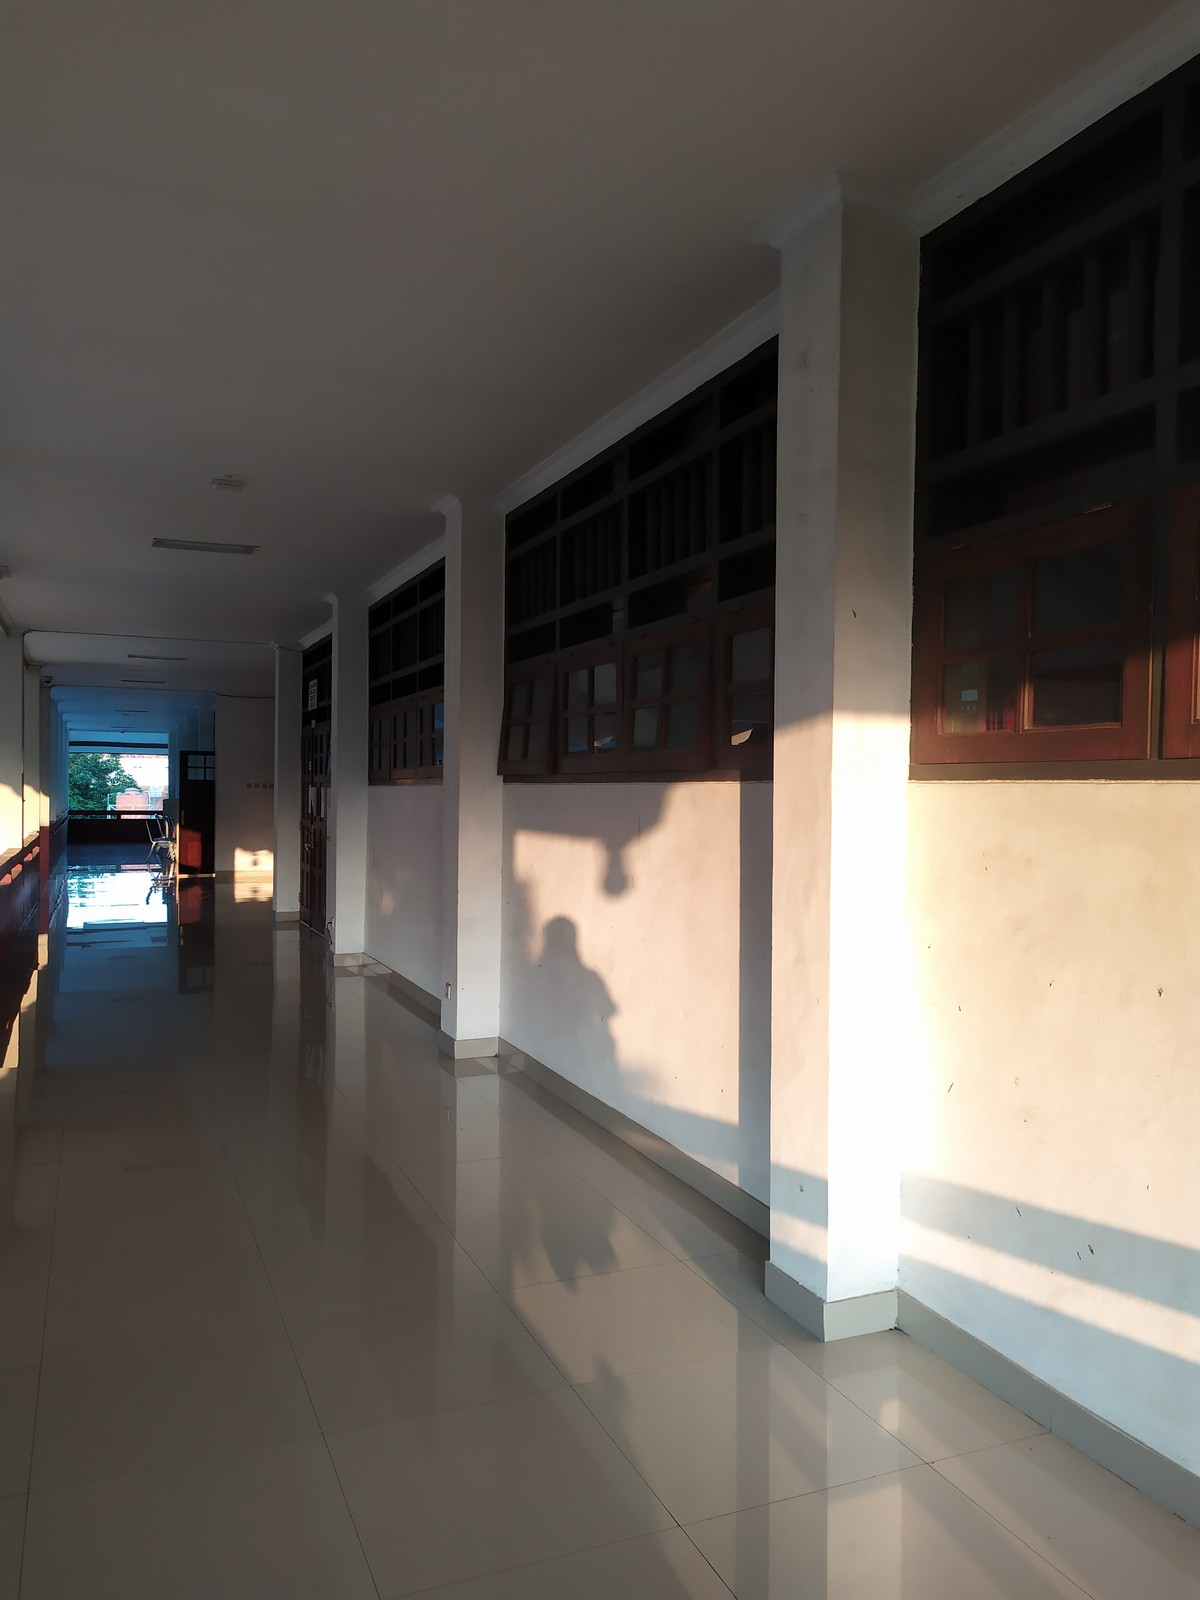concrete column: (747, 194, 925, 1351), (429, 483, 511, 1073), (323, 581, 372, 974), (265, 625, 308, 931)
